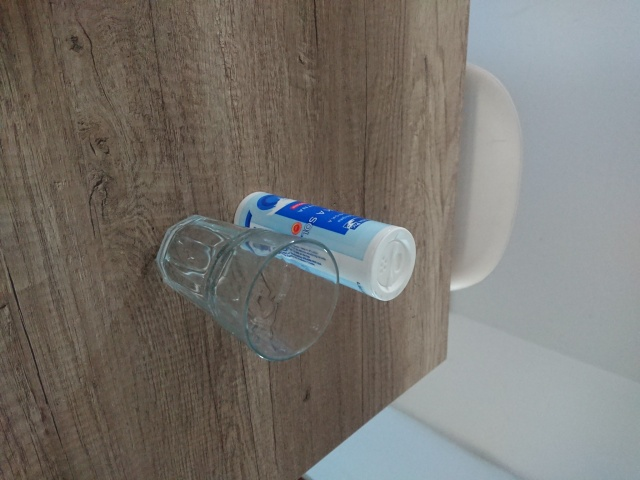Solana Pag Fine Sea Salt 250g: (231, 188, 419, 304)
